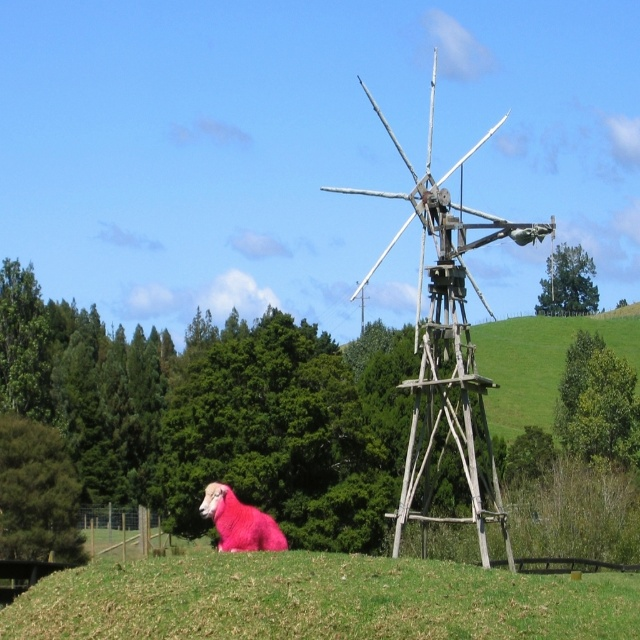Sheep: (199, 482, 288, 552)
